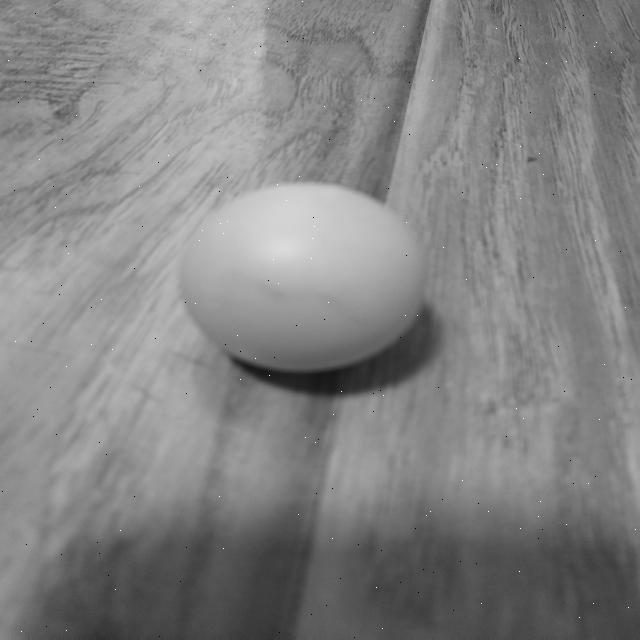ping-pong-ball: (180, 184, 426, 370)
